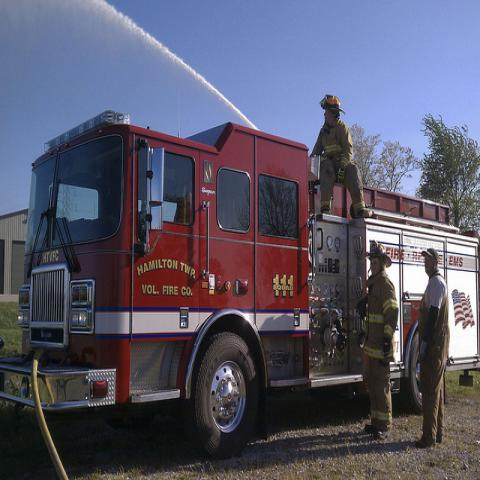truck: (1, 106, 479, 479)
